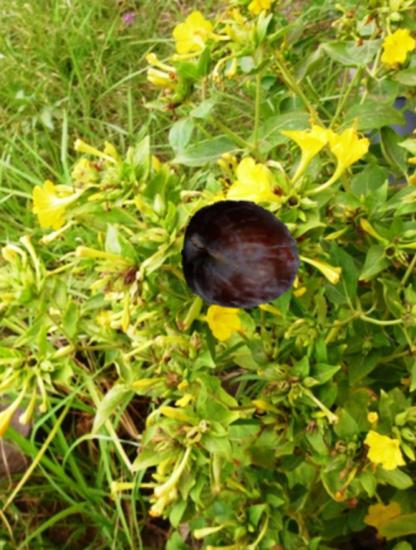Plum: (181, 194, 303, 316)
